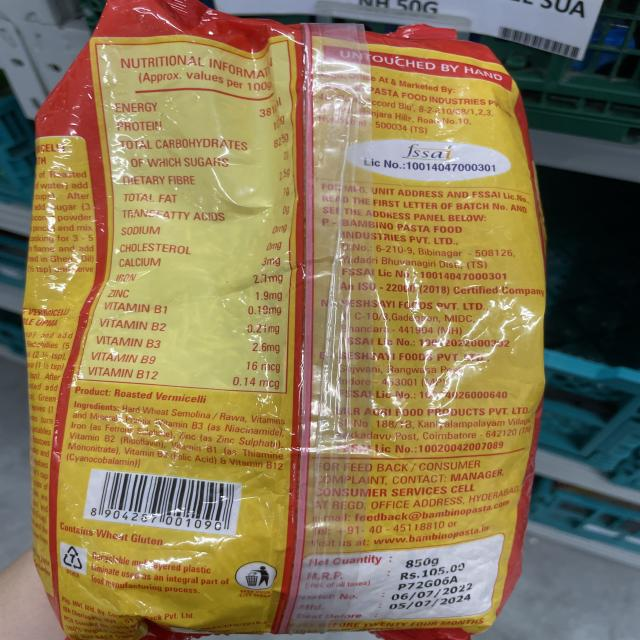object_name: (70, 19, 497, 640)
